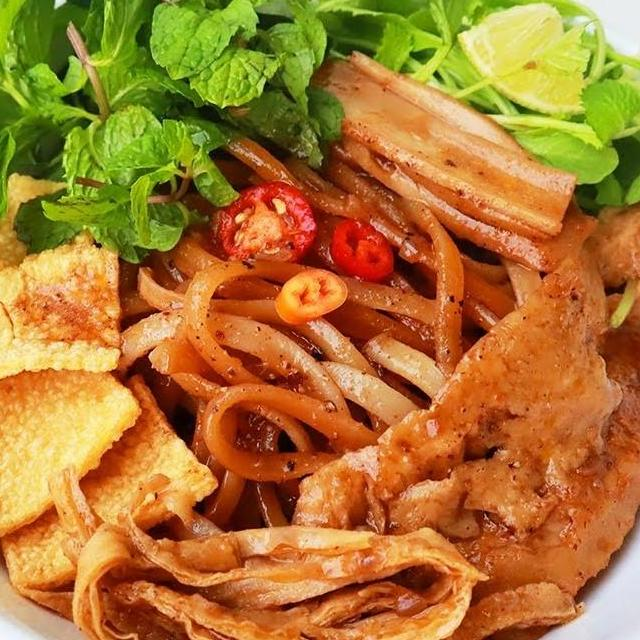banh da: (0, 362, 224, 600), (0, 342, 148, 552), (0, 209, 130, 405), (0, 146, 96, 273)
mi: (104, 120, 554, 542)
thit heo: (279, 244, 640, 637), (558, 185, 640, 342)
